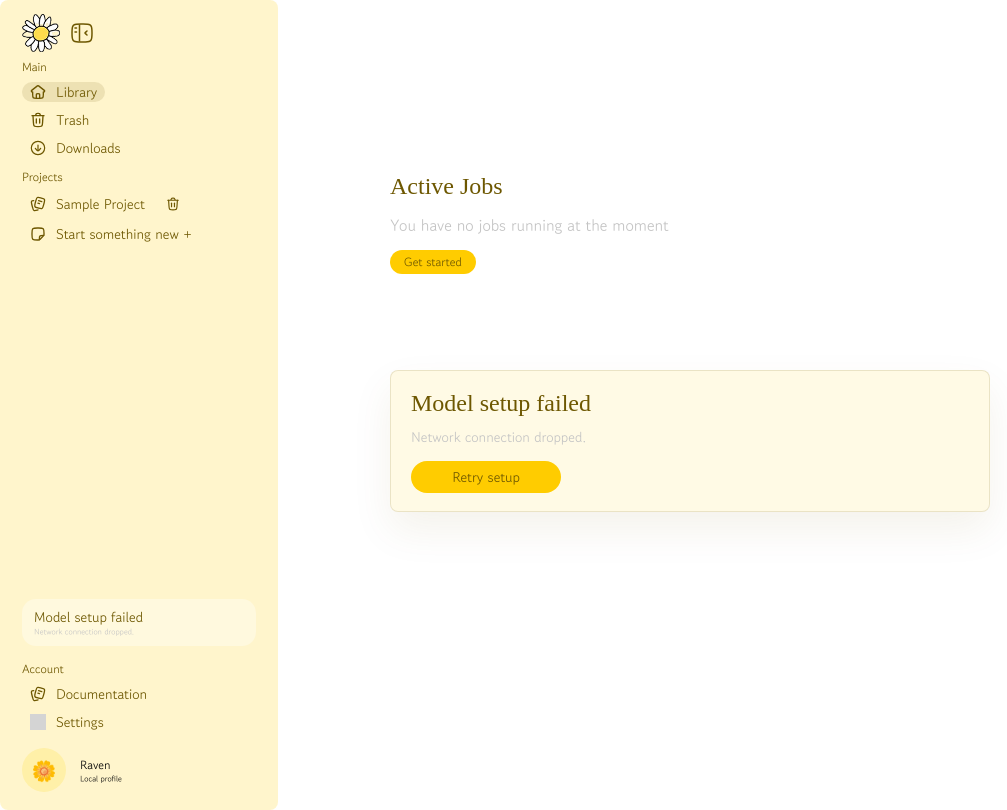
Library model readiness › serializes runtime status refreshes while retry kicks polling back on
The width and height of the screenshot is (1007, 810).
Click the button "Retry setup": (486, 477) left=411, top=461, right=561, bottom=493
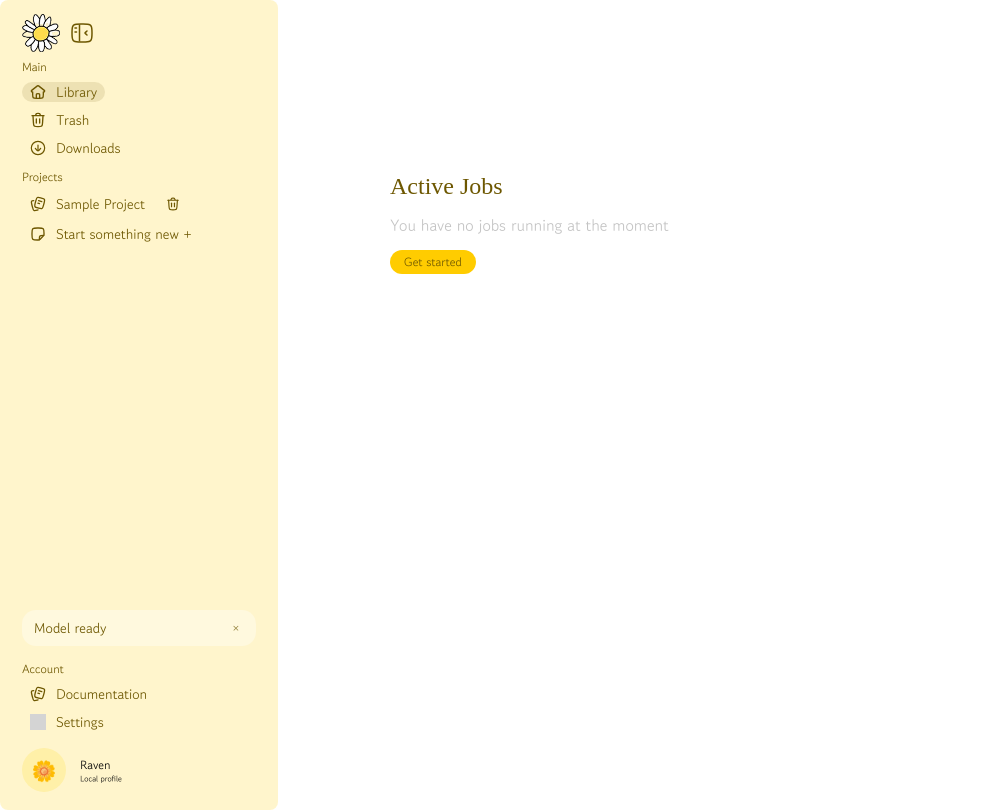
Now the element with test id "library-model-panel" is gone
Now the element with test id "sidebar-model-status" shows "Model ready", box left=34, top=618, right=106, bottom=638
